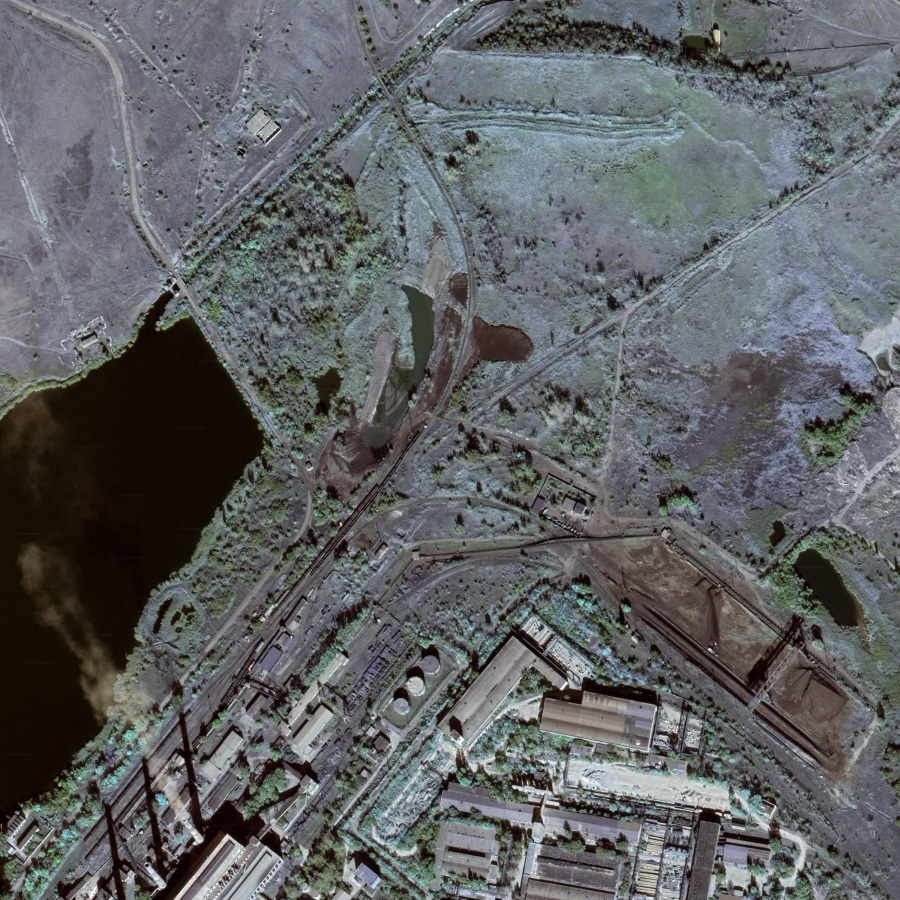PowerPlant: (564, 518, 854, 771)
